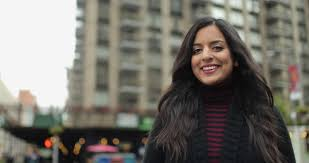indian_female: (173, 13, 243, 95)
